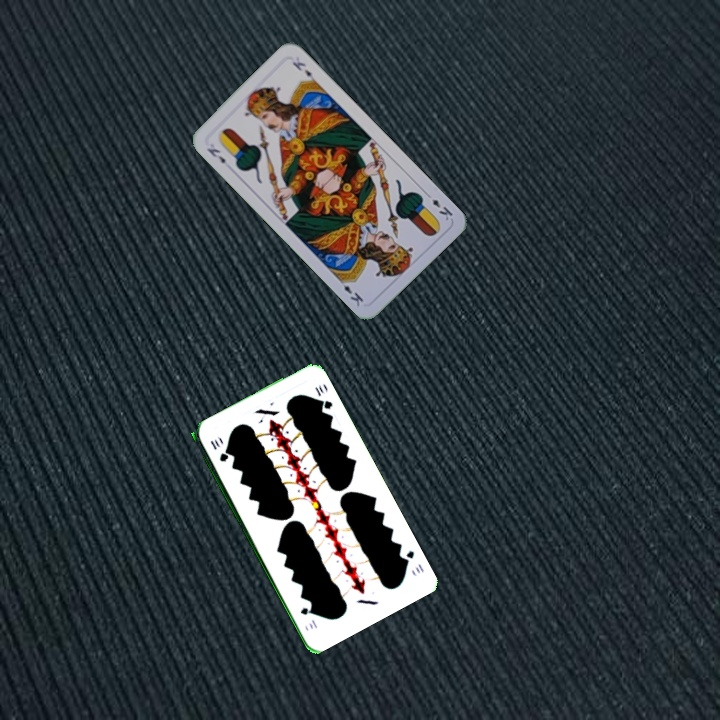EK: (421, 188, 455, 223), (203, 144, 228, 166)
G10: (398, 546, 426, 575), (206, 436, 230, 464)
